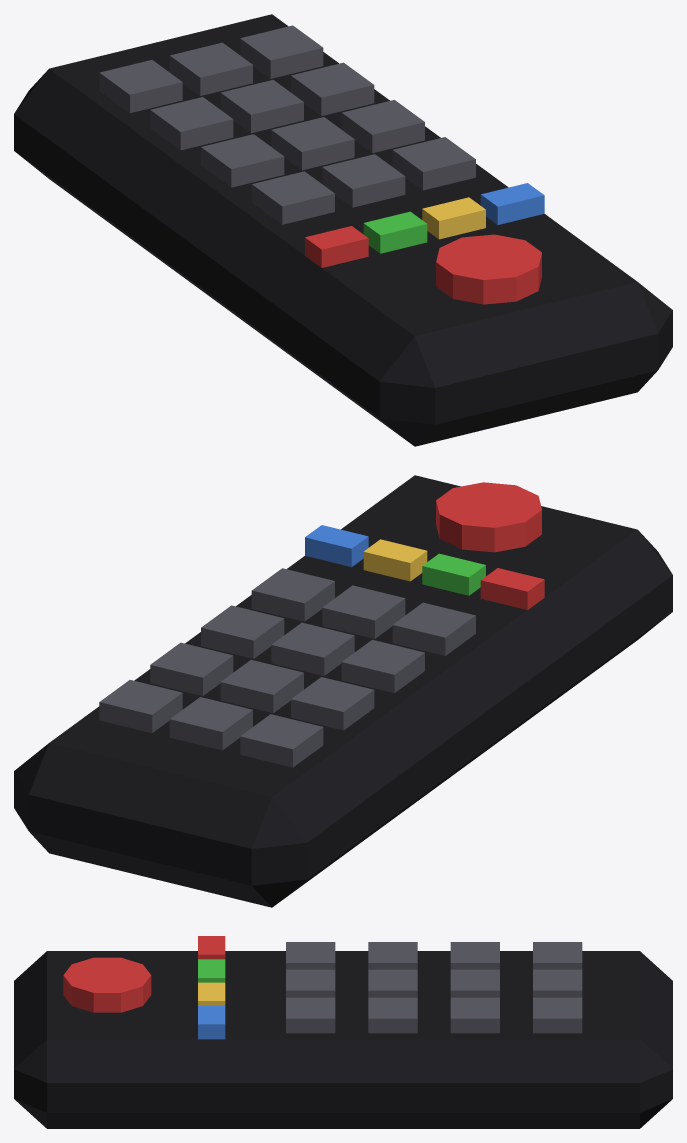
Rendered from tv_remote.glb.
The picture shows the model from 3 angles, top to bottom: view 1: azimuth 30°, elevation 25°; view 2: azimuth 150°, elevation 25°; view 3: azimuth 270°, elevation 25°; orthographic projection. The views are drawn at different scales.
Visible parts, largest first — view 1: tv_remote; view 2: tv_remote; view 3: tv_remote.
Boxes of the visible parts, x1,y1,x2,y2 form: tv_remote: (14,14,672,446); tv_remote: (14,475,672,907); tv_remote: (14,936,672,1128).
Bounding box in the file's own units: 0.05 × 0.022 × 0.12.
